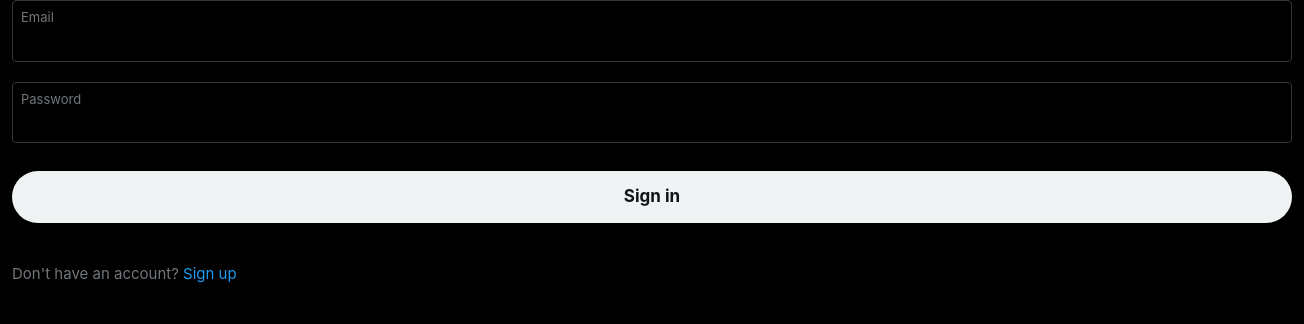
LoginForm › submits the credentials and shows field errors returned by the server
This screenshot has width=1304, height=324.
Type "jane@example.com" into the field labelled "Email" at (652,43), box [13, 25, 1291, 60]
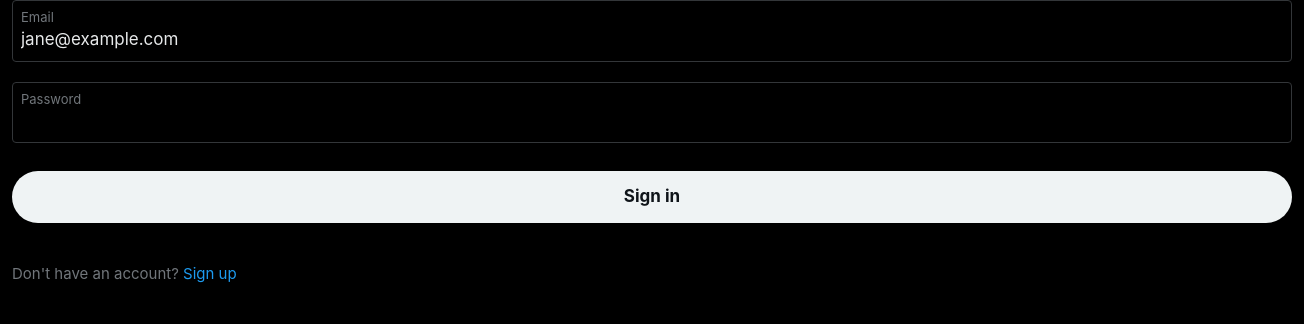
Type "secret" into the password field labelled "Password" at (652,124), box [13, 106, 1291, 142]
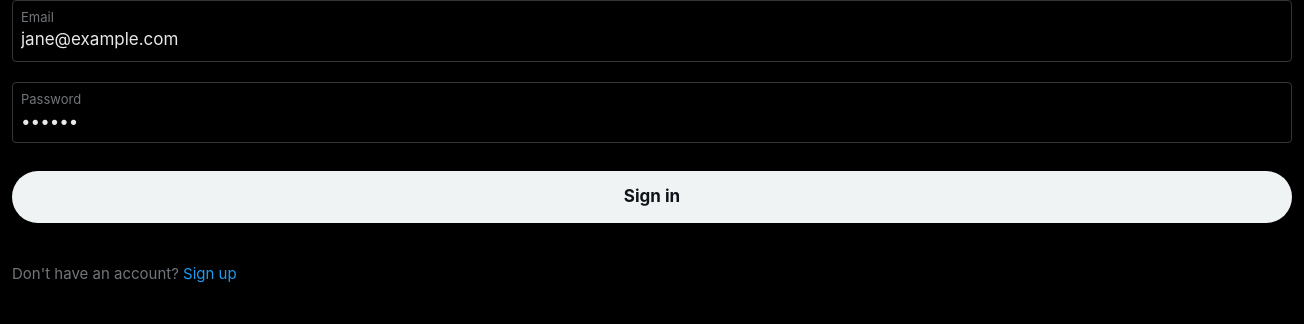
Click the button "Sign in" at (652,197), box [12, 171, 1292, 223]
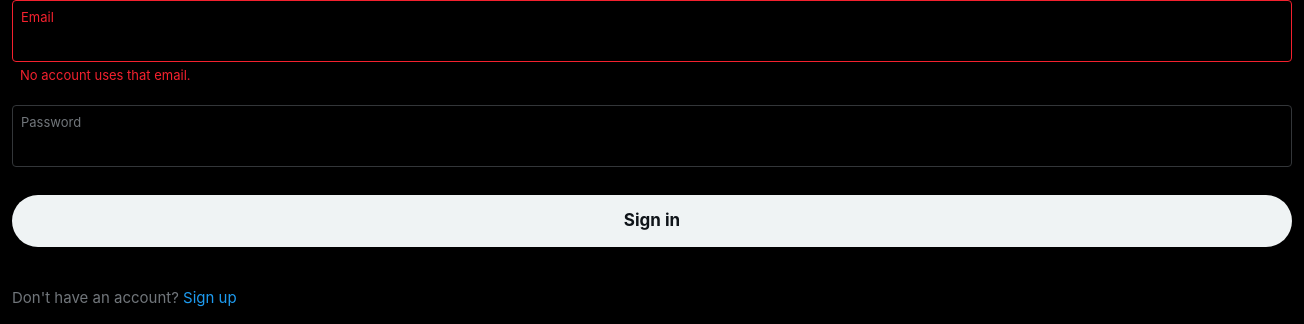
Check: the text "No account uses that email." is shown, box [20, 66, 191, 82]
